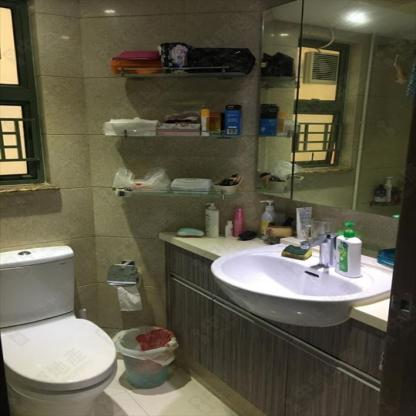Exhaust Fan: (304, 50, 342, 84)
Faucet: (302, 228, 331, 268)
Toilet: (0, 244, 118, 414)
Toilet Sink: (210, 241, 390, 326)
